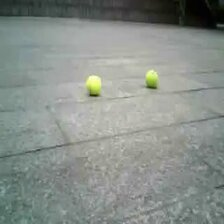tennis: (85, 75, 103, 95), (144, 70, 159, 85)
